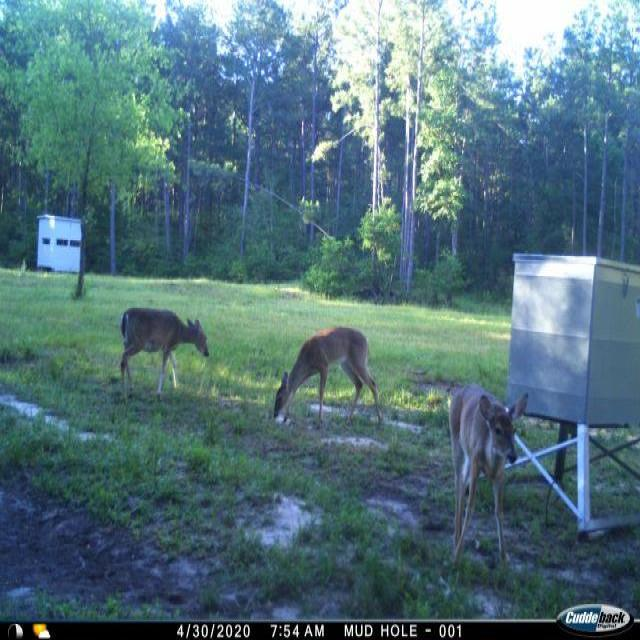deer: (444, 379, 534, 578), (272, 320, 386, 435), (113, 303, 212, 405)
